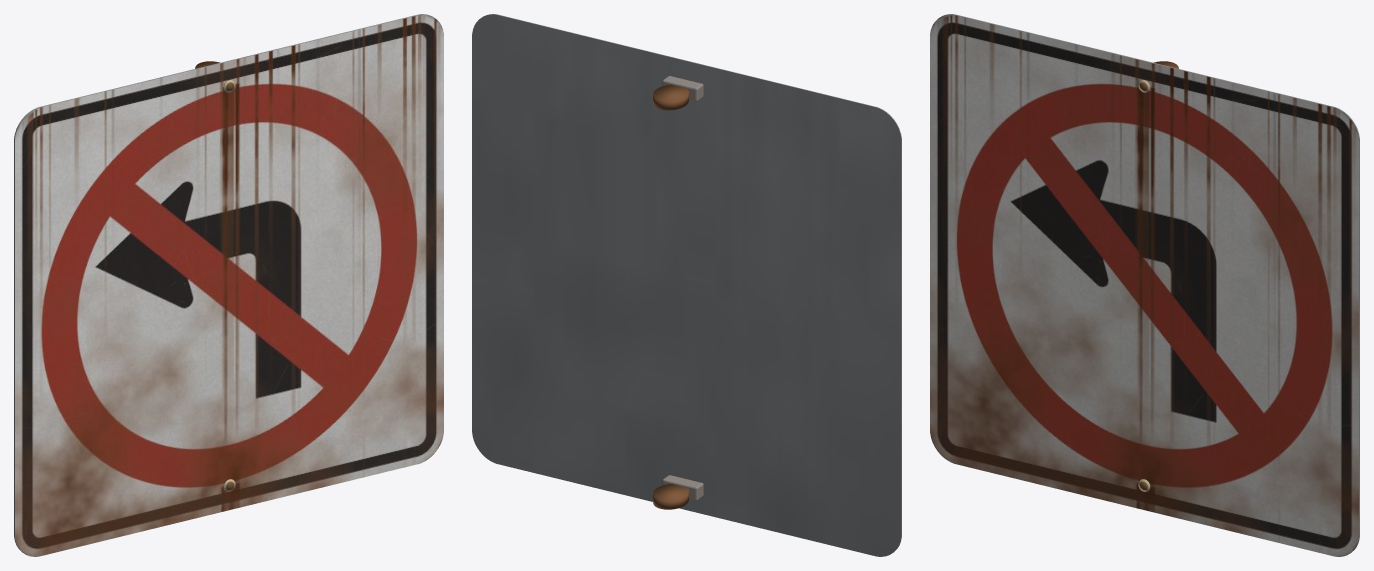
The model's file is noLeftTurn-v1-rusty.glb.
3 renders of one model, left to right at view 1: azimuth 30°, elevation 25°; view 2: azimuth 150°, elevation 25°; view 3: azimuth 330°, elevation 25°, orthographic.
Visible parts, largest first — view 1: noLeftTurn-v1-rusty; view 2: noLeftTurn-v1-rusty; view 3: noLeftTurn-v1-rusty.
Boxes of the visible parts, left/top/right/bottom form: noLeftTurn-v1-rusty: left=14, top=14, right=443, bottom=556; noLeftTurn-v1-rusty: left=472, top=14, right=901, bottom=556; noLeftTurn-v1-rusty: left=930, top=14, right=1359, bottom=556.
Size of the model in its own units: 0.762 by 0.762 by 0.0871.
Materials: 1 (1 with a texture image).
